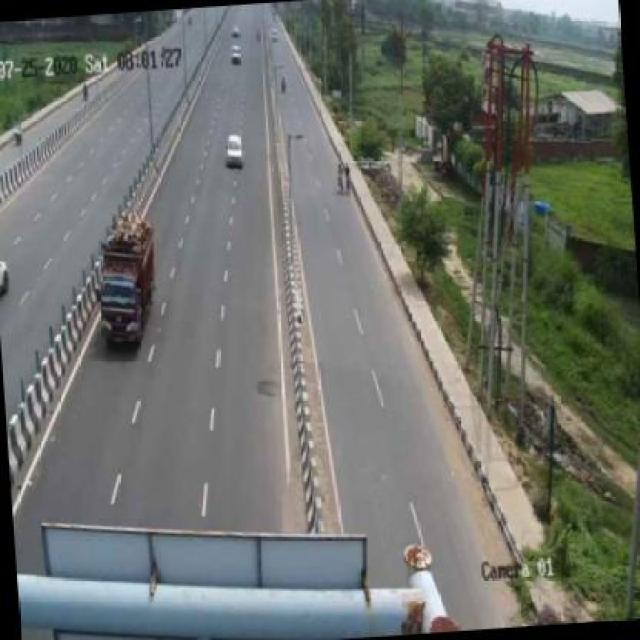car: (220, 126, 249, 172)
